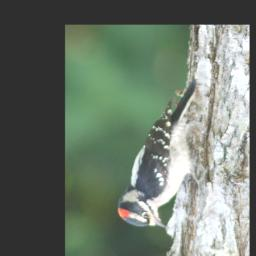Woodpecker: (115, 75, 204, 232)
